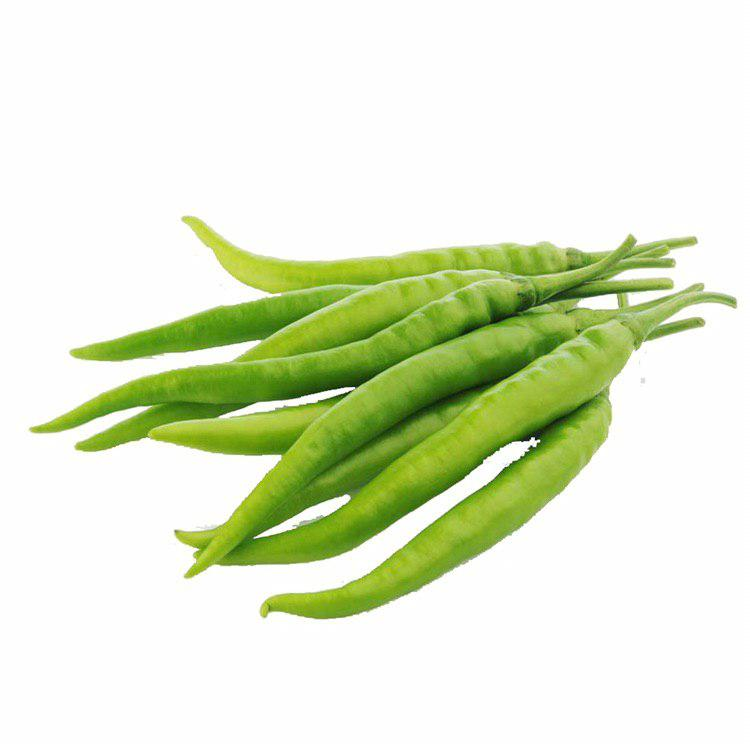lada hijau: (201, 309, 640, 583), (55, 272, 561, 424), (295, 412, 618, 645), (162, 193, 607, 298)
